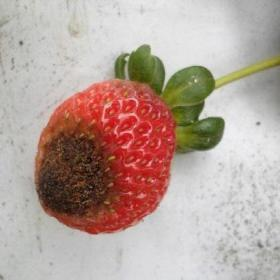Anthracnose Fruit Rot: (33, 111, 131, 226)
